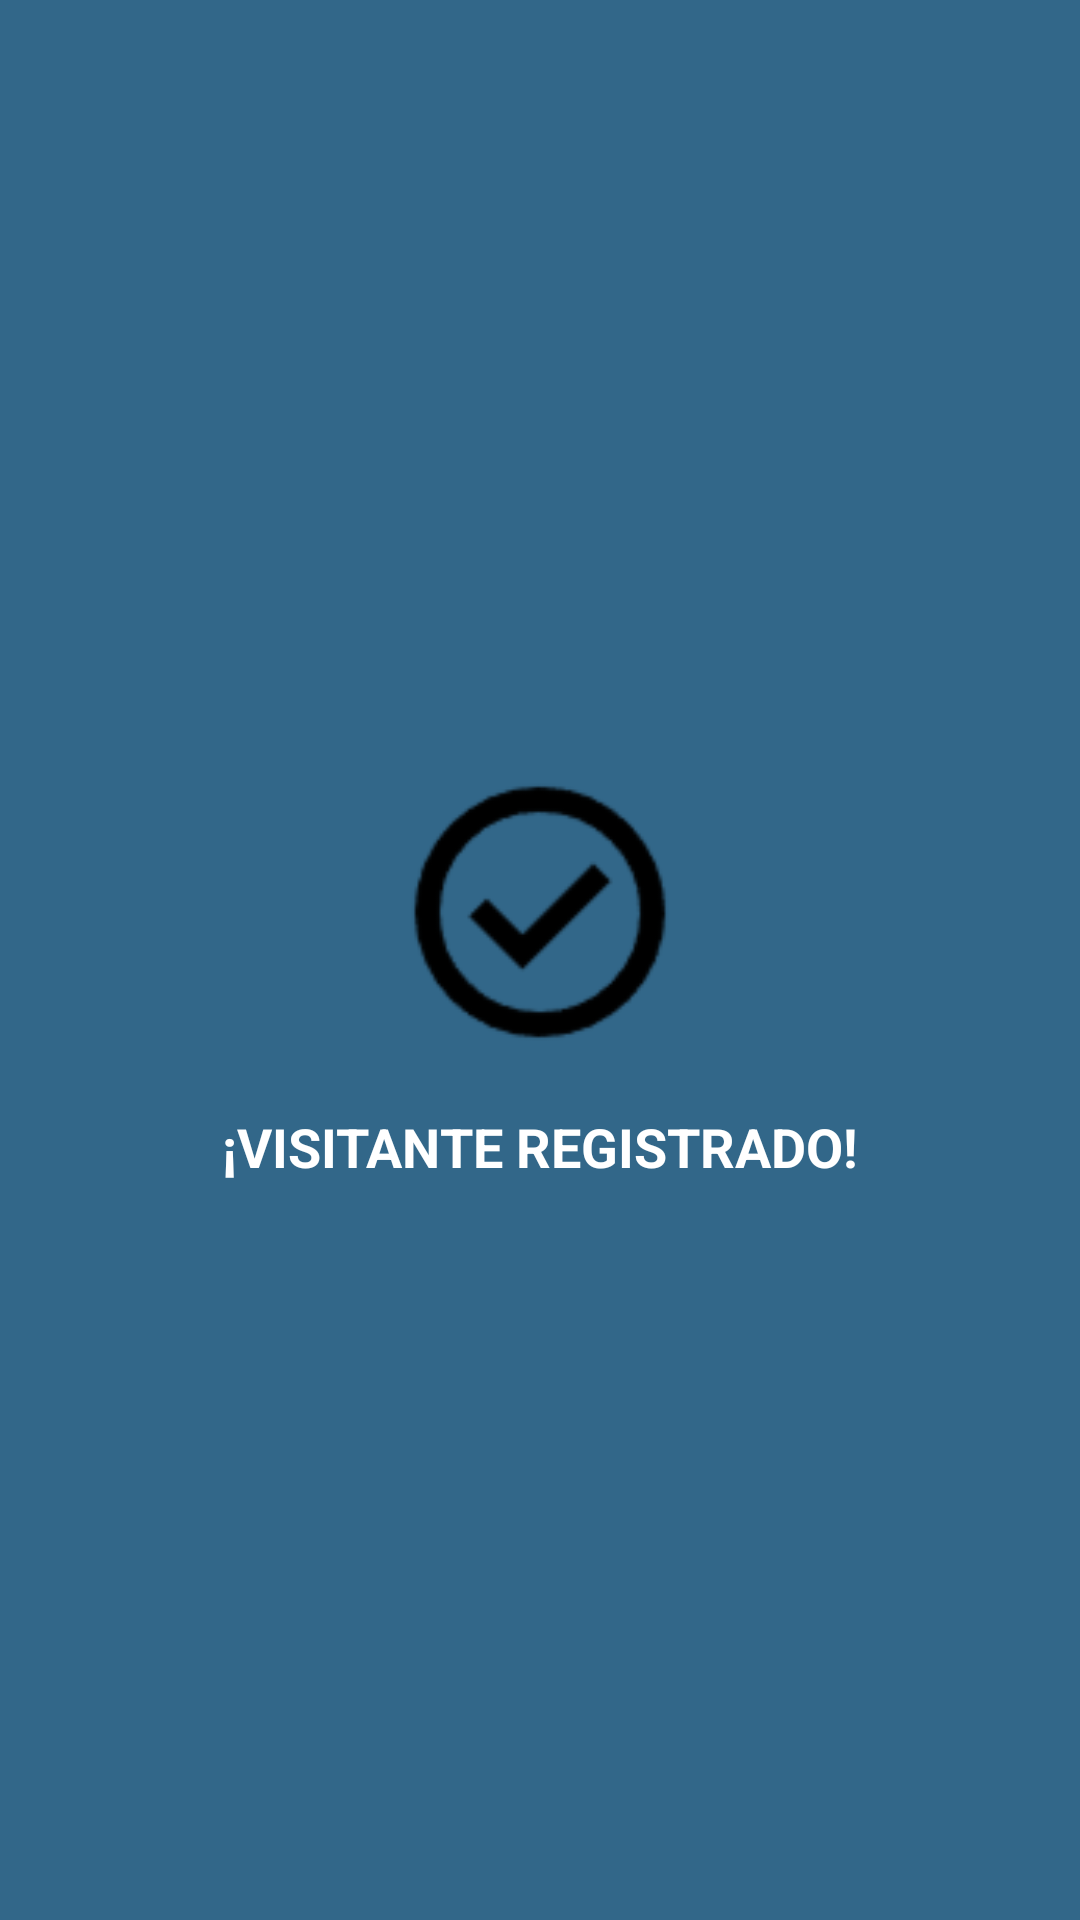

Where icons sit on this 1080px x 1920px app screen, as (left=x1, top=y1, right=x2, bottom=y2):
check: (left=414, top=786, right=666, bottom=1038)
